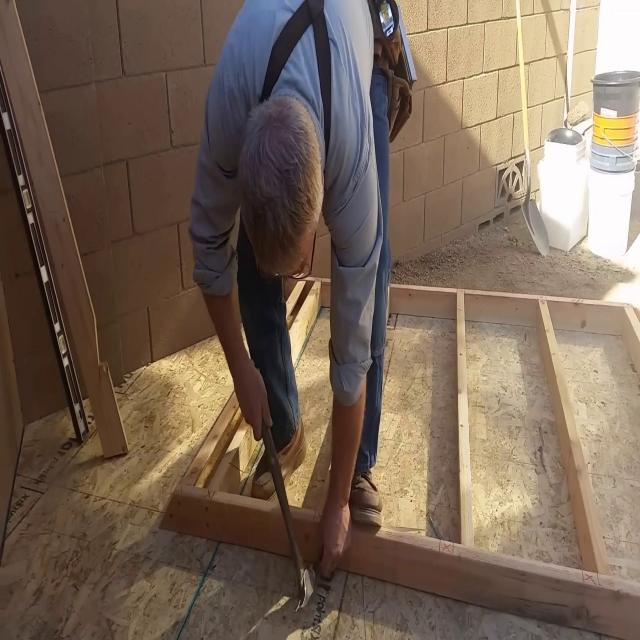hammer: (262, 425, 320, 617)
